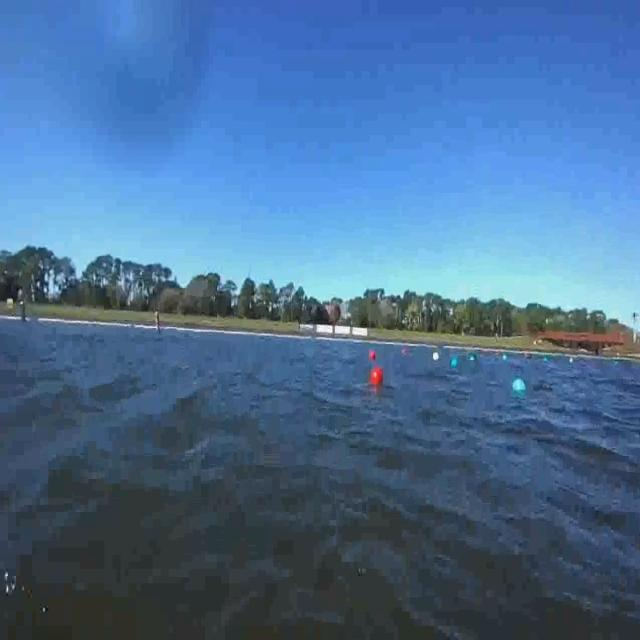green-buoy: (513, 376, 527, 397), (451, 357, 459, 368)
red-buoy: (372, 367, 384, 388), (368, 350, 376, 361)
yellow-buoy: (432, 350, 440, 363)
